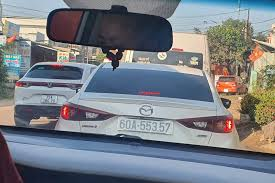Bien-so: (119, 117, 174, 134), (40, 94, 58, 104)
